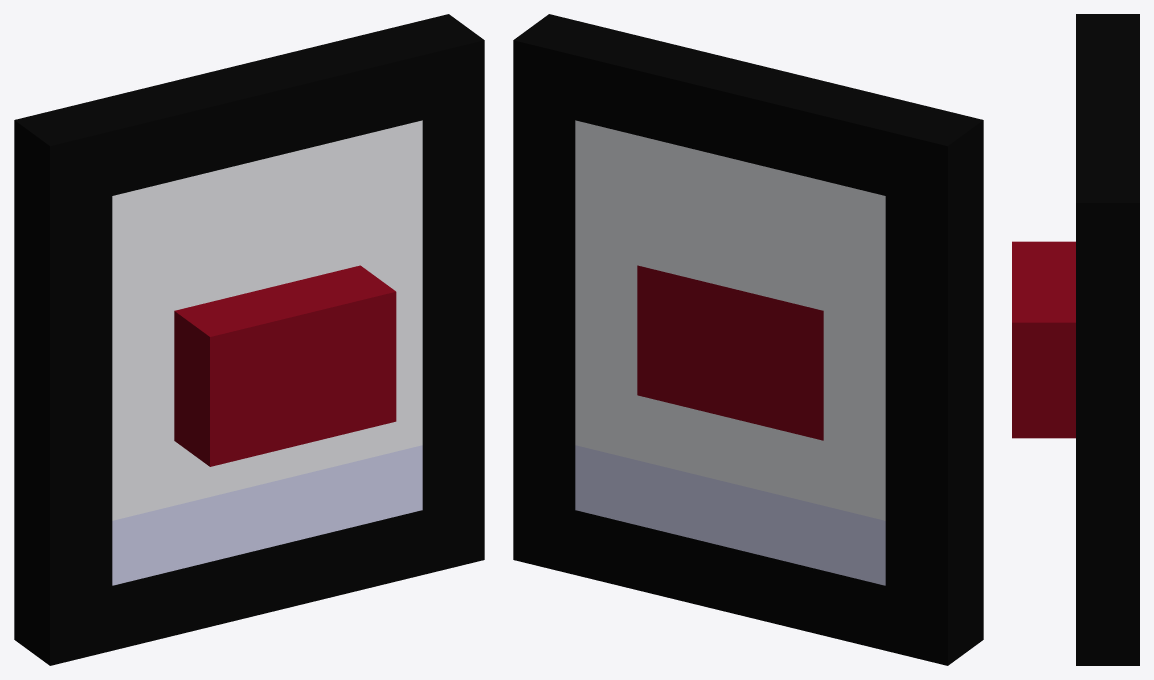
Rendered from Moonstone Remote.glb.
3 renders of one model, left to right at view 1: azimuth 30°, elevation 25°; view 2: azimuth 150°, elevation 25°; view 3: azimuth 270°, elevation 25°, orthographic. The views are drawn at different scales.
Parts seen in each view (by area): view 1: generated(Clone); view 2: generated(Clone); view 3: generated(Clone).
Part boxes in pixels (x1,y1,x2,y2): generated(Clone): [14, 14, 484, 665]; generated(Clone): [513, 14, 983, 665]; generated(Clone): [1012, 14, 1139, 665].
Size of the model in its own units: 7 by 8 by 2.
Materials: 1 (1 with a texture image).
